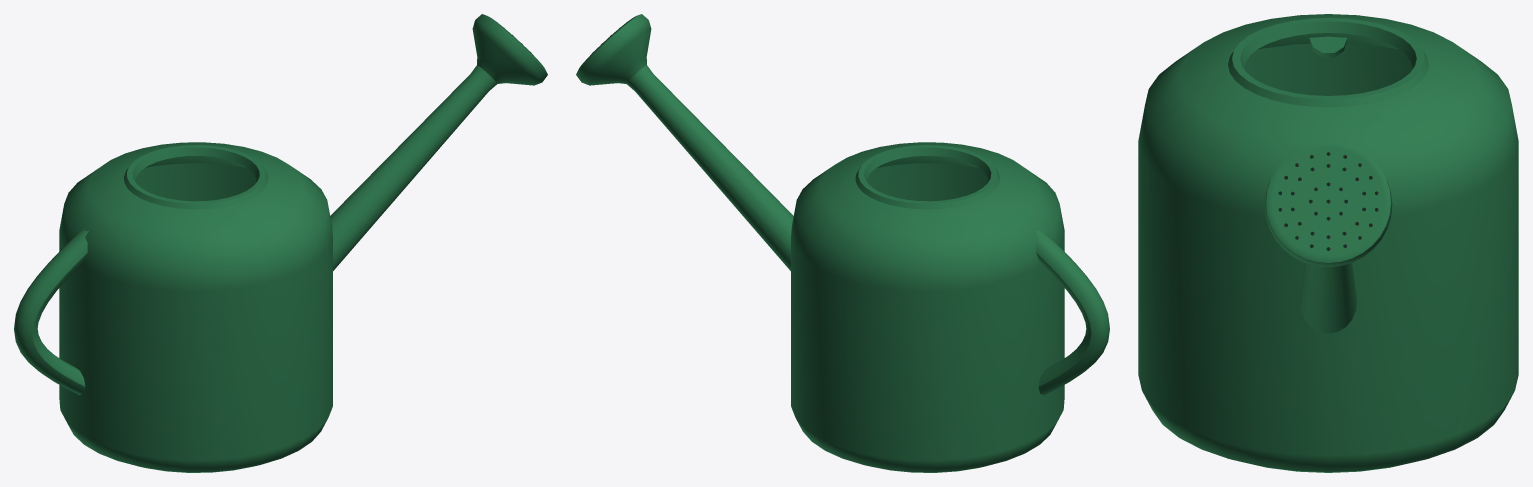
The model's file is regador_realista.glb.
3 renders of one model, left to right at view 1: azimuth 30°, elevation 25°; view 2: azimuth 150°, elevation 25°; view 3: azimuth 270°, elevation 25°, orthographic. The views are drawn at different scales.
Visible parts, largest first — view 1: Regador_PBR; view 2: Regador_PBR; view 3: Regador_PBR.
Part boxes in pixels (x1,y1,x2,y2): Regador_PBR: (14,14,547,472); Regador_PBR: (576,14,1109,472); Regador_PBR: (1138,14,1518,472).
Size of the model in its own units: 0.6168 by 0.3764 by 0.28.
1 material, 1 textured.
